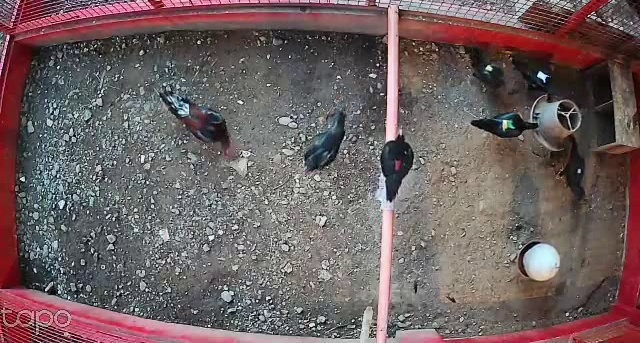Chicken: (378, 120, 417, 213), (302, 109, 348, 176), (552, 133, 592, 200), (470, 109, 542, 144), (463, 49, 513, 99), (509, 57, 555, 101)
Rooster: (156, 86, 237, 158)
Saddle_Color_Red: (392, 160, 403, 171)
Saddle_Color_White: (535, 70, 548, 83)
Saddle_Color_Yellow: (484, 65, 494, 74)
Saddle_Color_YellowGreen: (499, 118, 517, 130)
